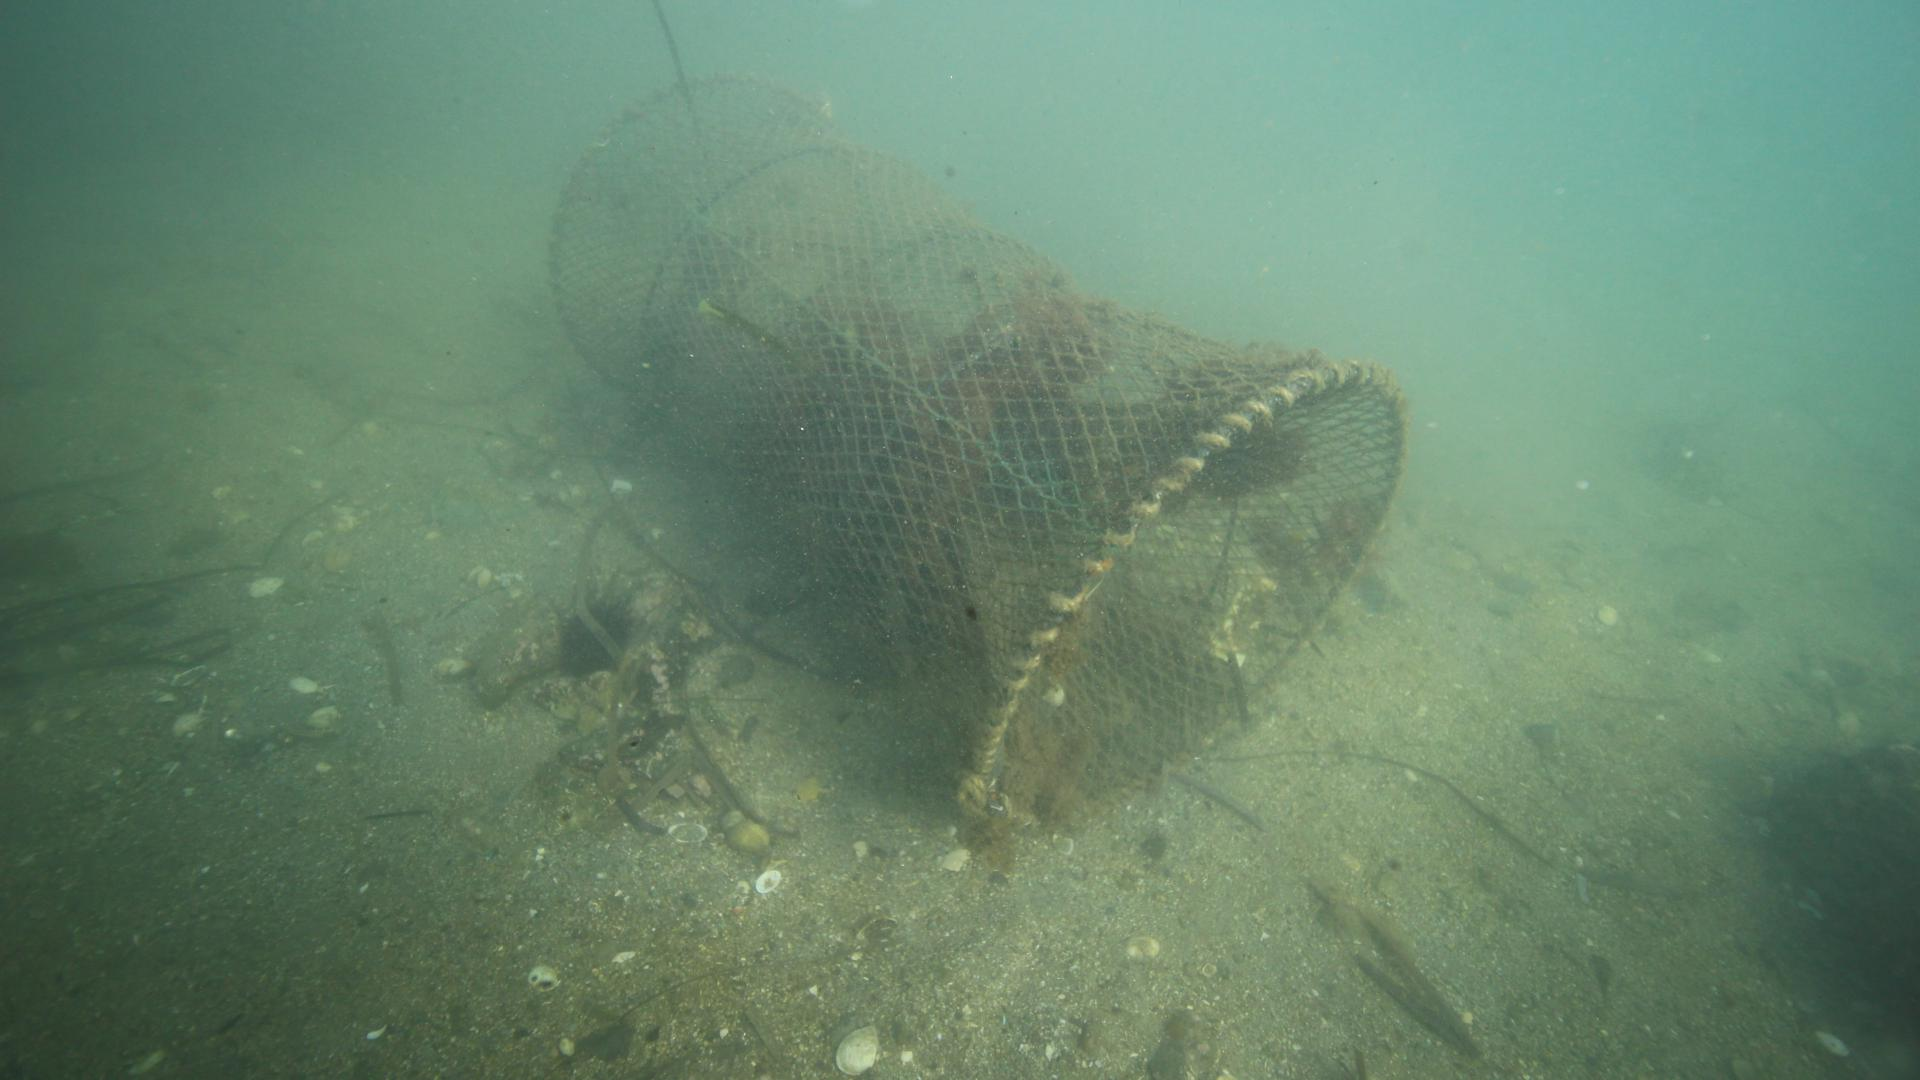spring fish trap: (545, 70, 1412, 836)
